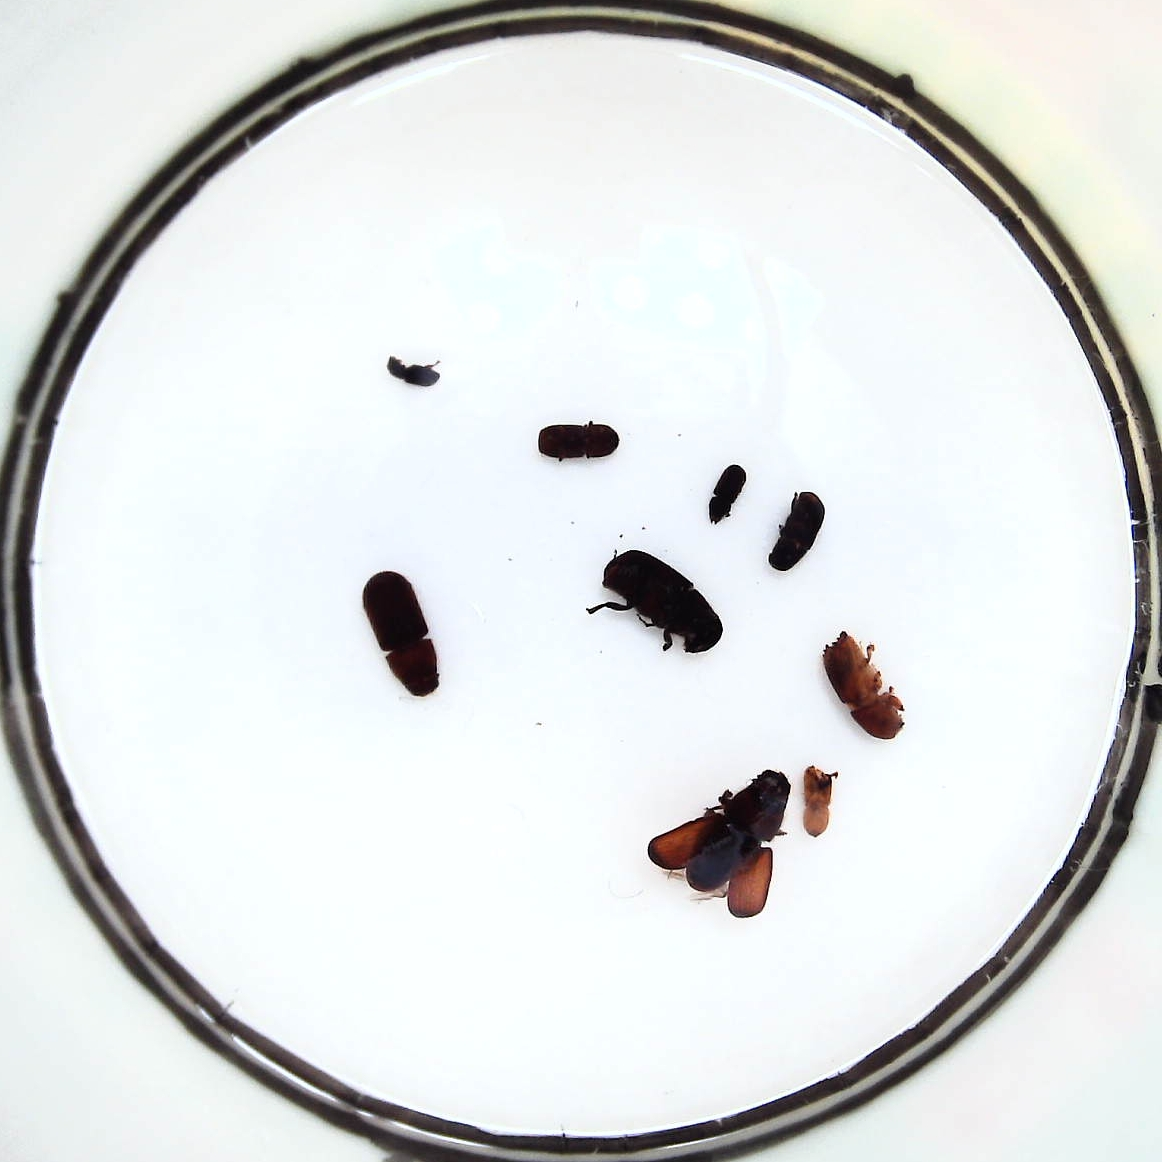Boerner: (821, 630, 904, 738)
Leconte: (649, 767, 790, 918), (602, 549, 723, 653), (362, 571, 439, 696)
acuminatus: (709, 464, 747, 522), (386, 354, 439, 387)
armandi: (768, 492, 824, 572)
coleoptera: (802, 766, 833, 837)
linnaeus: (538, 424, 619, 459)
